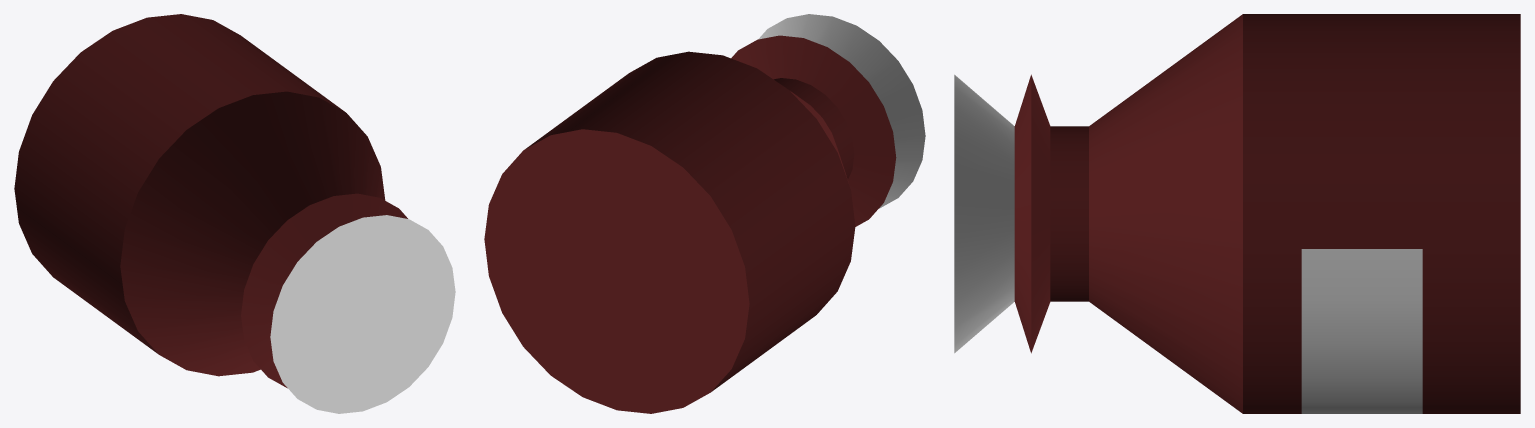
File: model_align.obj
The picture shows the model from 3 angles, left to right: view 1: azimuth 30°, elevation 25°; view 2: azimuth 150°, elevation 25°; view 3: azimuth 270°, elevation 25°; orthographic projection. The views are drawn at different scales.
Visible parts, largest first — view 1: mesh1_mesh1-geometry; view 2: mesh1_mesh1-geometry; view 3: mesh1_mesh1-geometry.
Boxes of the visible parts, <box> form: mesh1_mesh1-geometry: <box>14,14,455,413</box>; mesh1_mesh1-geometry: <box>484,14,925,413</box>; mesh1_mesh1-geometry: <box>954,14,1520,413</box>.
Bounding box in the file's own units: 0.1505 × 0.1505 × 0.2124.
